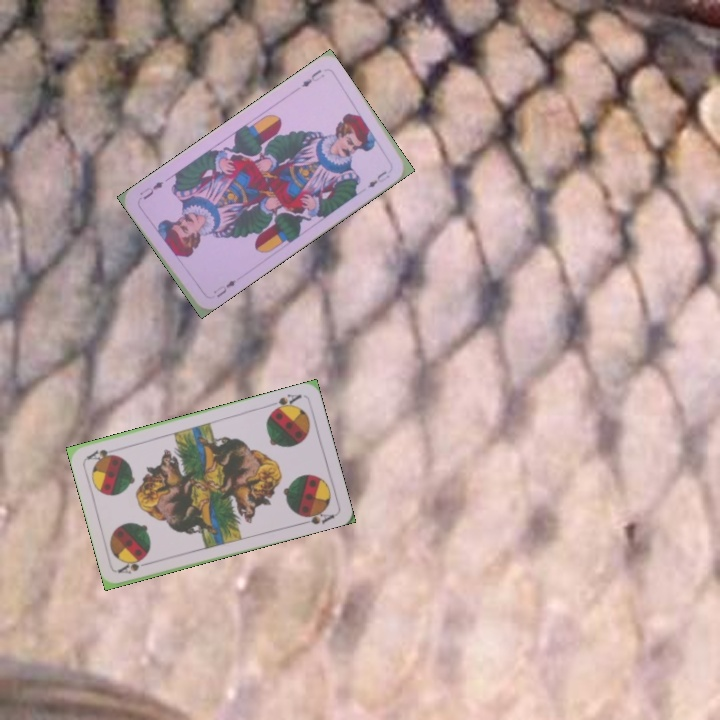EU: (297, 65, 327, 90), (209, 276, 238, 300)
SA: (267, 390, 304, 415), (115, 555, 155, 577)
